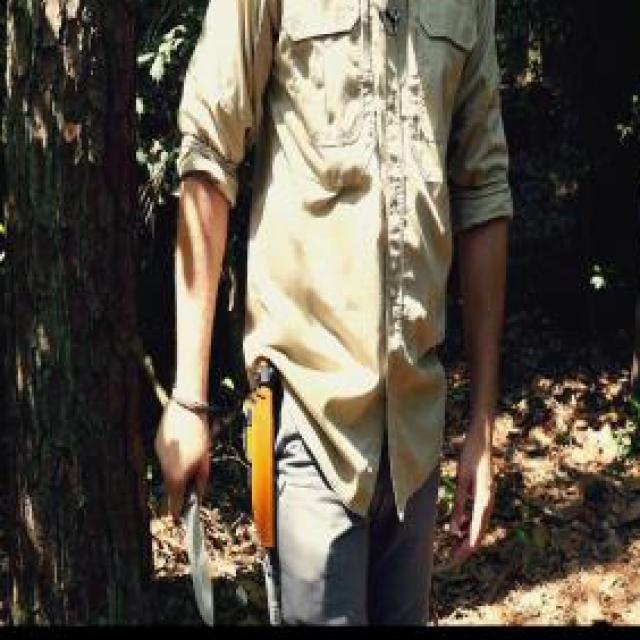knife: (156, 449, 218, 636)
